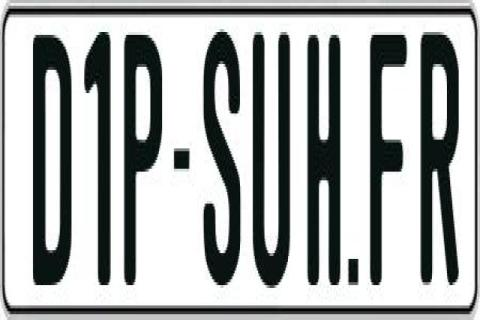0: (84, 32, 111, 291)
D: (33, 35, 78, 288)
F: (370, 35, 412, 299)
H: (306, 29, 343, 288)
P: (123, 35, 164, 297)
R: (422, 35, 462, 291)
S: (203, 29, 243, 294)
U: (251, 32, 294, 296)
